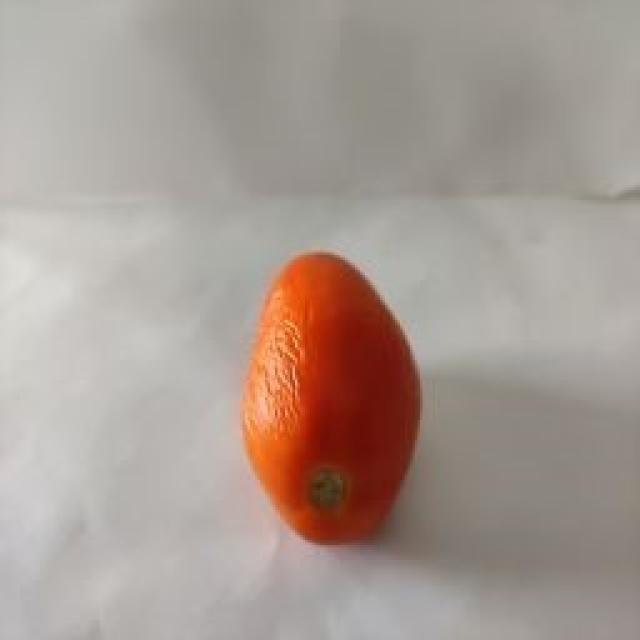Ripe: (232, 250, 430, 554)
